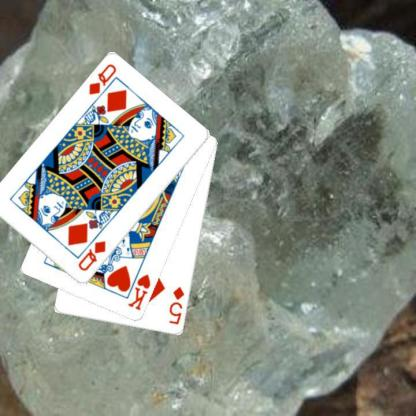5D: (166, 284, 186, 326)
KH: (125, 272, 152, 312)
QD: (75, 238, 108, 273), (86, 61, 118, 96)
